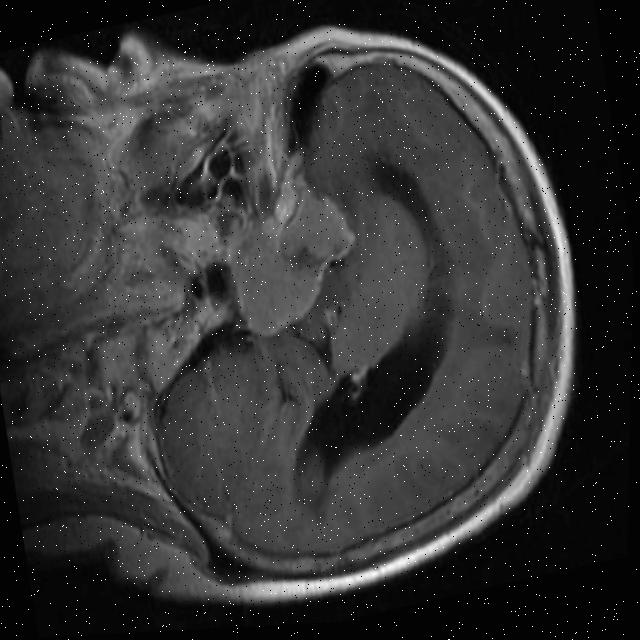Meningioma: (222, 220, 330, 345), (269, 175, 360, 273)
